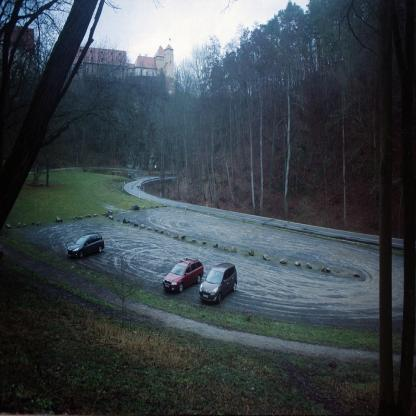Car: (162, 257, 205, 297), (200, 263, 239, 305), (69, 233, 106, 262)
